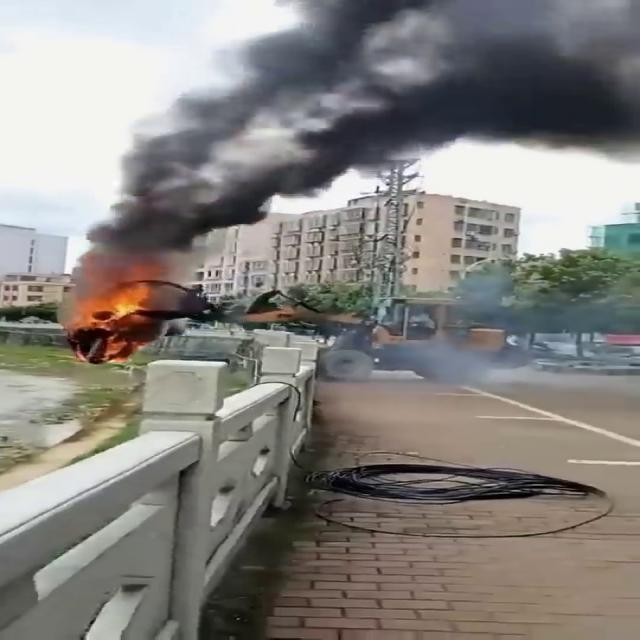Fire: (67, 259, 182, 336)
Smoke: (96, 0, 639, 247)
